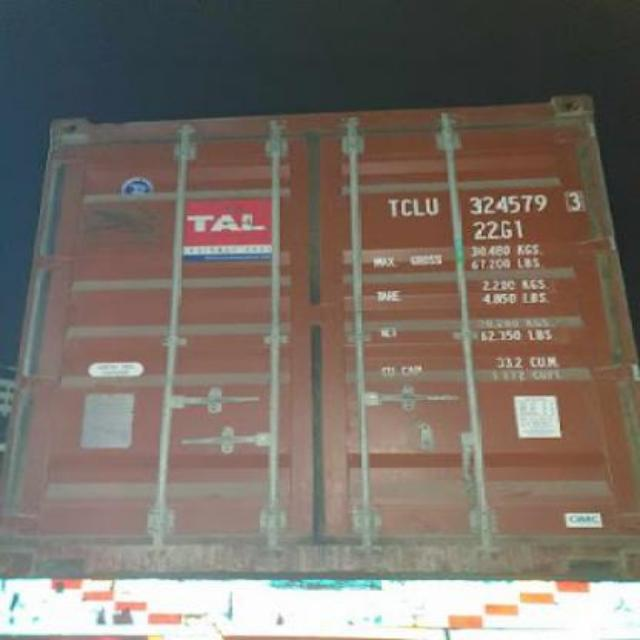2: (482, 194, 498, 212)
3: (564, 188, 588, 212), (472, 194, 484, 216)
4: (496, 194, 509, 212)
5: (506, 192, 524, 212)
7: (522, 192, 534, 210)
9: (538, 190, 552, 213)
C: (401, 199, 414, 217)
L: (412, 195, 428, 219)
T: (388, 197, 402, 215)
U: (424, 194, 442, 216)
